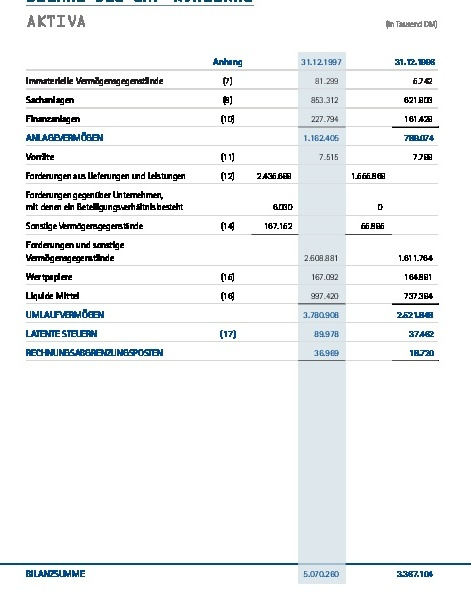table: (0, 0, 471, 597)
